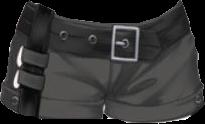Hemline: (0, 98, 102, 119), (103, 103, 204, 123)
Pantleg: (1, 1, 112, 119), (104, 0, 204, 122)
Waistline: (16, 28, 191, 57), (29, 0, 181, 24)
